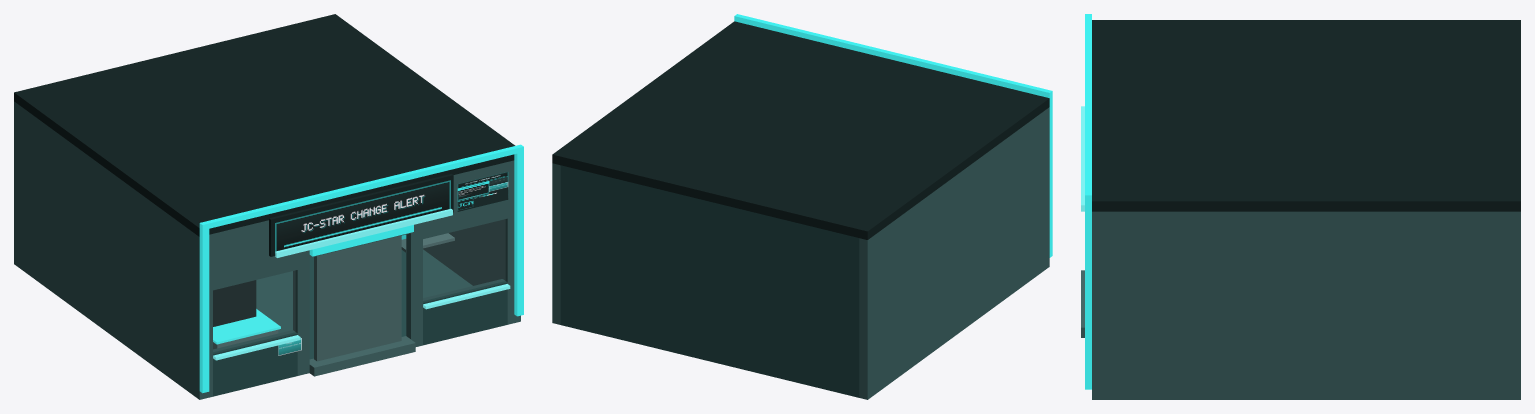
Rendered from plot.glb.
3 views of the same model, side by side, from view 1: azimuth 30°, elevation 25°; view 2: azimuth 150°, elevation 25°; view 3: azimuth 270°, elevation 25° (orthographic). The views are drawn at different scales.
Parts seen in each view (by area): view 1: facade, neon, sign_1, door_panel_L, door_panel_R, pic_1, lintel; view 2: facade, neon; view 3: facade, neon.
Boxes of the visible parts, bbox=[...] form: facade: bbox=[14, 14, 520, 399]; neon: bbox=[199, 144, 523, 393]; sign_1: bbox=[275, 180, 450, 252]; door_panel_L: bbox=[314, 246, 359, 361]; door_panel_R: bbox=[359, 235, 401, 350]; pic_1: bbox=[457, 172, 508, 211]; lintel: bbox=[309, 225, 413, 256]; facade: bbox=[552, 21, 1049, 399]; neon: bbox=[734, 14, 1052, 257]; facade: bbox=[1081, 20, 1520, 399]; neon: bbox=[1081, 14, 1091, 389].
Bounding box in the file's own units: 9.5 × 5 × 9.74.
Materials: 4 (3 with a texture image).
